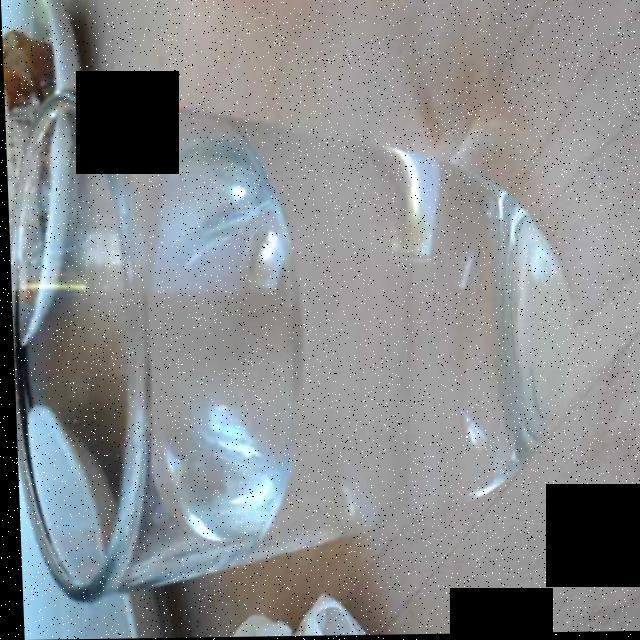water: (61, 112, 500, 572)
